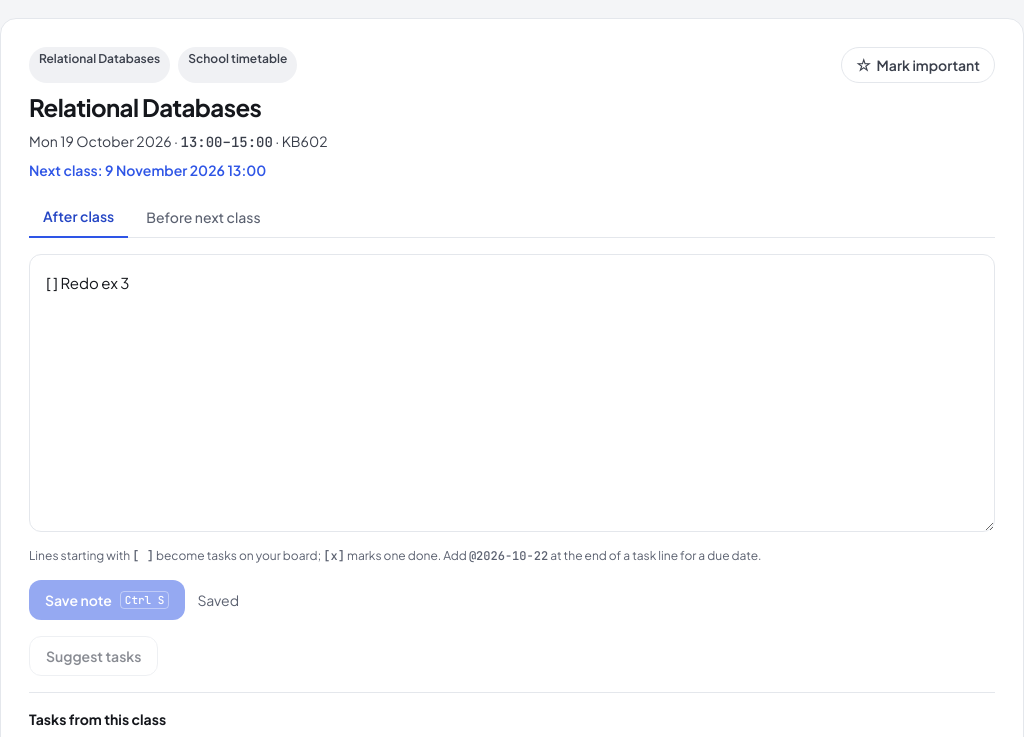
Test: EventPage › does not leak drafts or delete confirmation into the next class
Replace the text in the text box named "After class note" with "draft for 7" at (512, 393), box [29, 254, 995, 532]
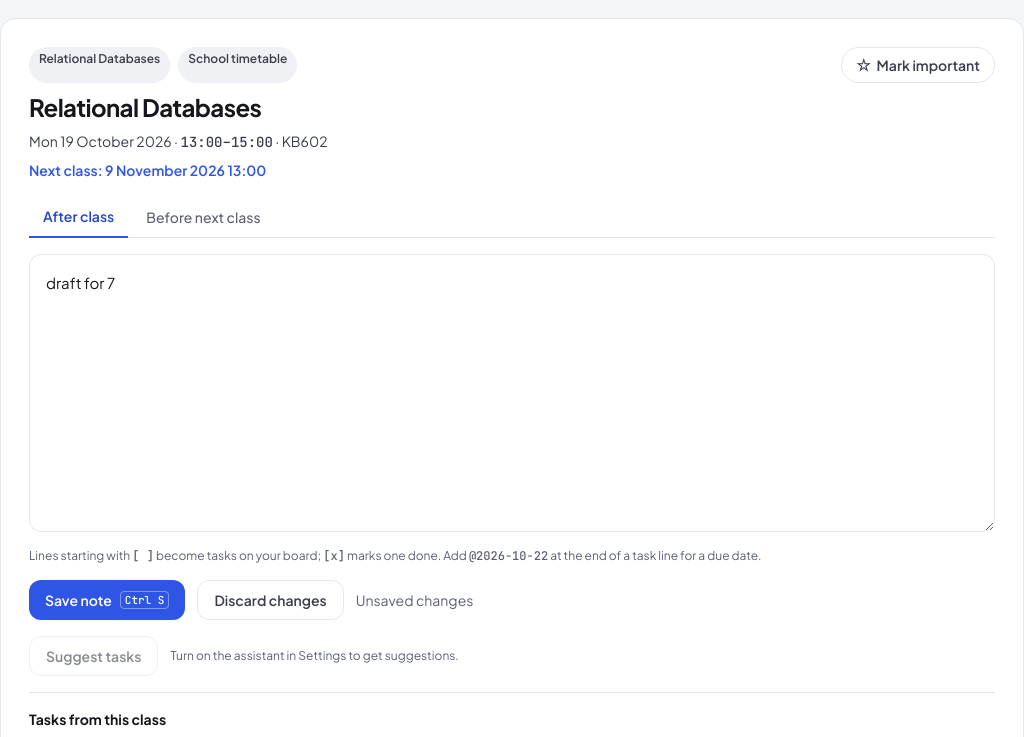
Click the tab "Before next class" at (204, 217), box [132, 196, 275, 238]
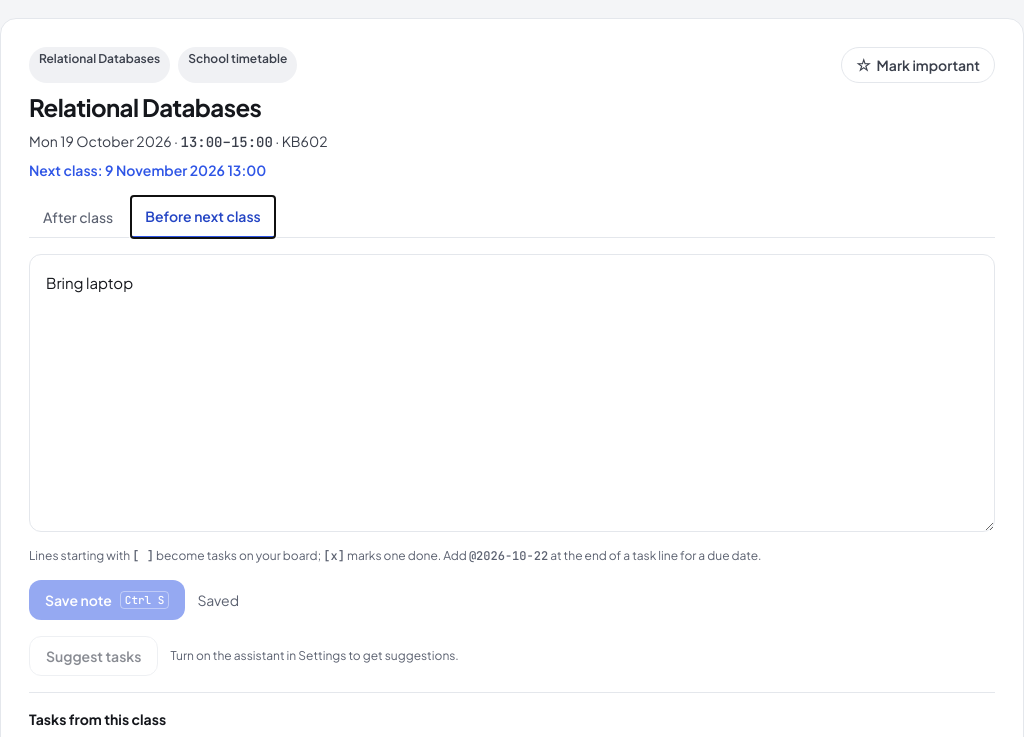
Click the link "Next class: 9 November 2026 13:00" at (148, 170), box [29, 161, 266, 179]
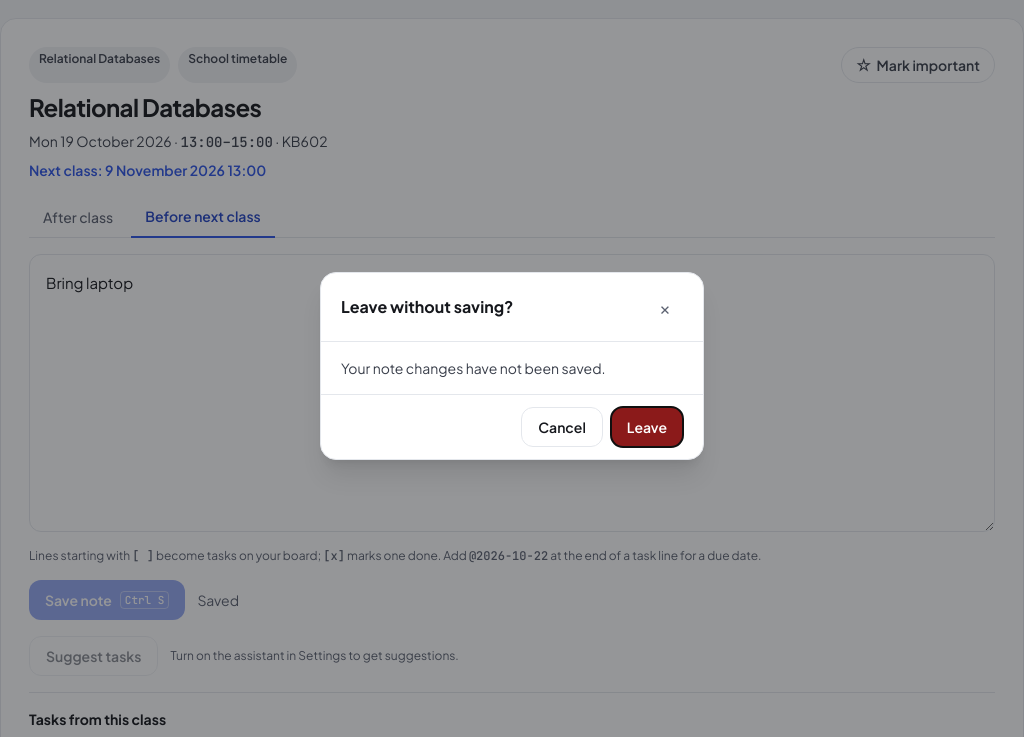
Click the button "Leave" at (647, 427), box [611, 407, 683, 447]
(page scrolled)
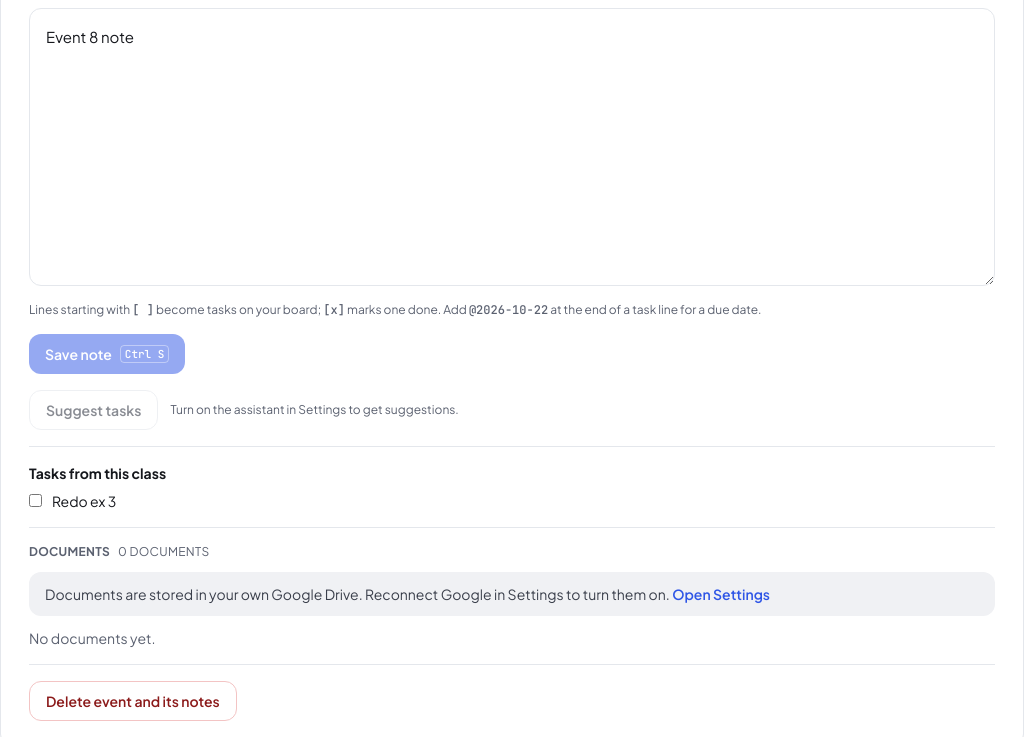
Check: the button "Save note Ctrl S" is disabled, box [29, 334, 185, 374]
Check: the button "Delete event and its notes" is shown, box [29, 681, 237, 721]
